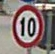limite 10: (10, 4, 43, 48)
